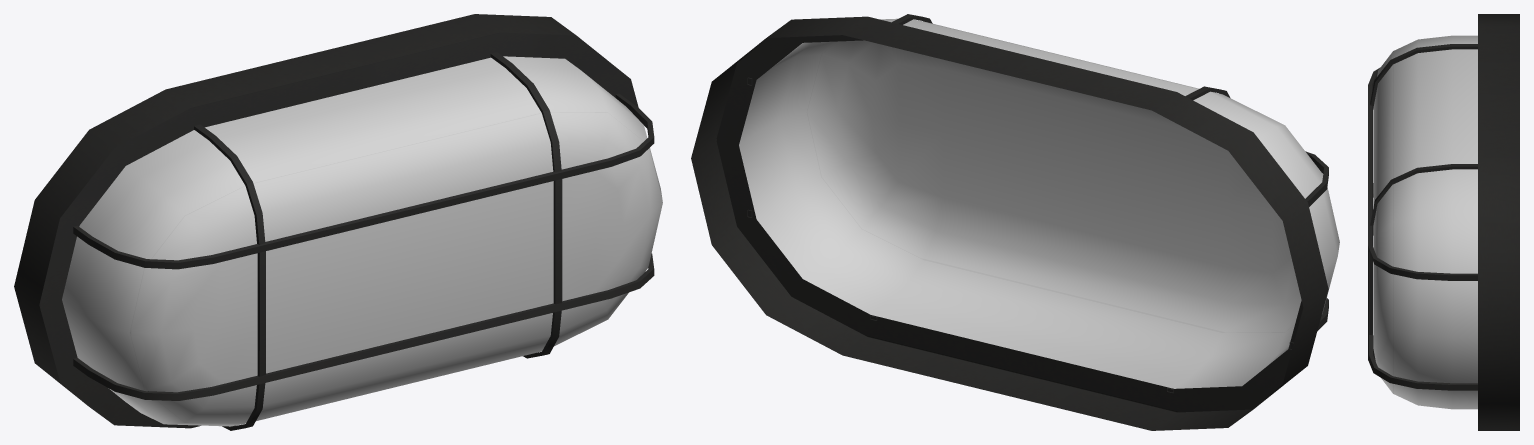
File: sp_lampwall_1.FBX
3 views of the same model, side by side, from view 1: azimuth 30°, elevation 25°; view 2: azimuth 150°, elevation 25°; view 3: azimuth 270°, elevation 25° (orthographic). The views are drawn at different scales.
Parts seen in each view (by area): view 1: sp_lampwall_1; view 2: sp_lampwall_1; view 3: sp_lampwall_1.
Part boxes in pixels (box(x1,y1,x2,y2)): sp_lampwall_1: box(14, 14, 662, 430); sp_lampwall_1: box(691, 14, 1339, 430); sp_lampwall_1: box(1368, 14, 1519, 430).
Bounding box in the file's own units: 11.02 × 2.85 × 5.51.
